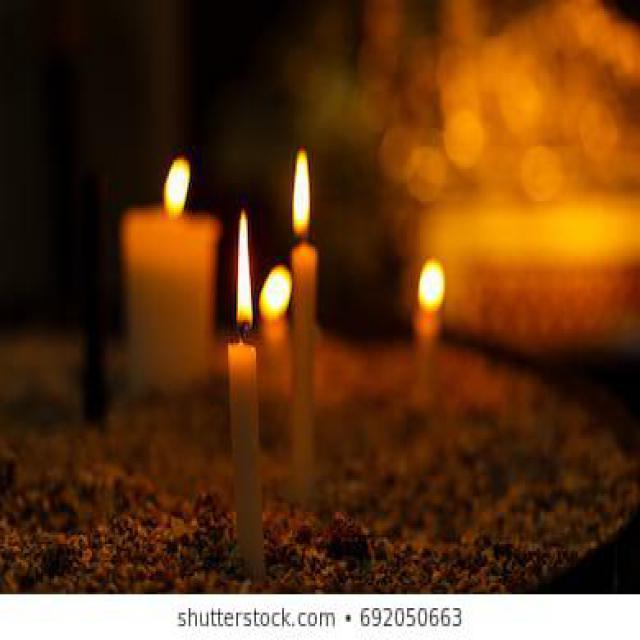Fire: (236, 209, 253, 337), (292, 151, 310, 238)
